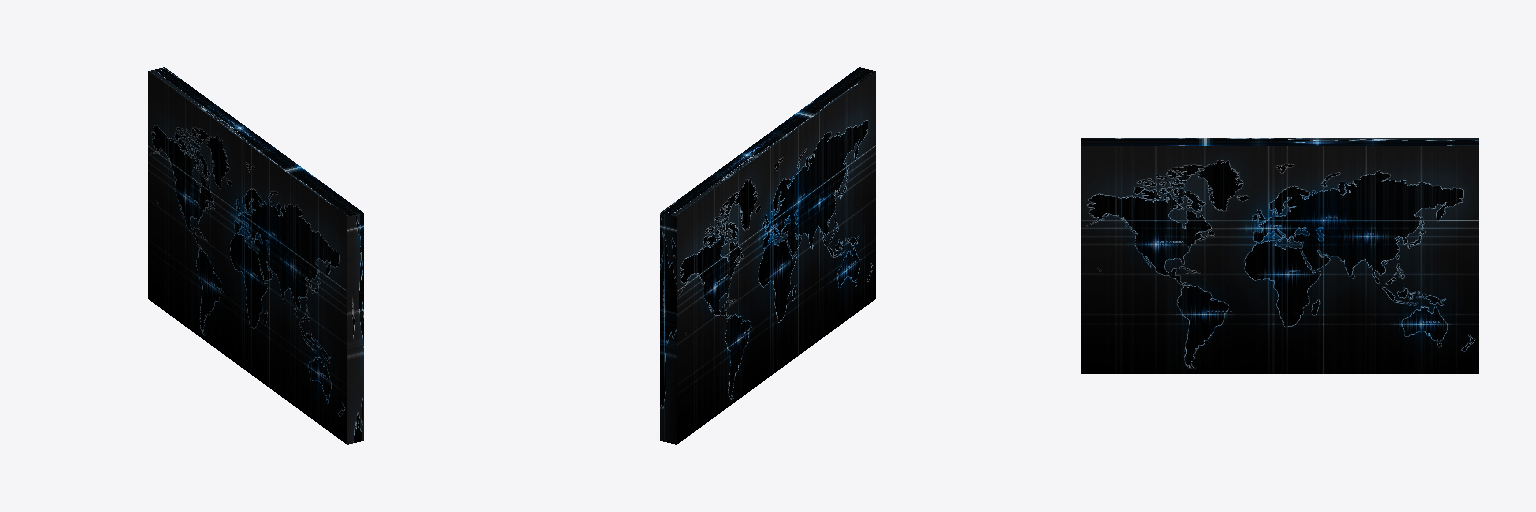
The picture shows the model from 3 angles: view 1: azimuth 30°, elevation 25°; view 2: azimuth 150°, elevation 25°; view 3: azimuth 270°, elevation 25°; orthographic projection.
Visible parts, largest first — view 1: Cube_Cube.001; view 2: Cube_Cube.001; view 3: Cube_Cube.001.
Boxes of the visible parts, x1=… form: Cube_Cube.001: x1=148, y1=67, x2=363, y2=444; Cube_Cube.001: x1=660, y1=67, x2=875, y2=444; Cube_Cube.001: x1=1081, y1=138, x2=1478, y2=373.
Bounding box in the file's own units: 0.5678 × 7.47 × 11.81.
1 materials, 1 textured.